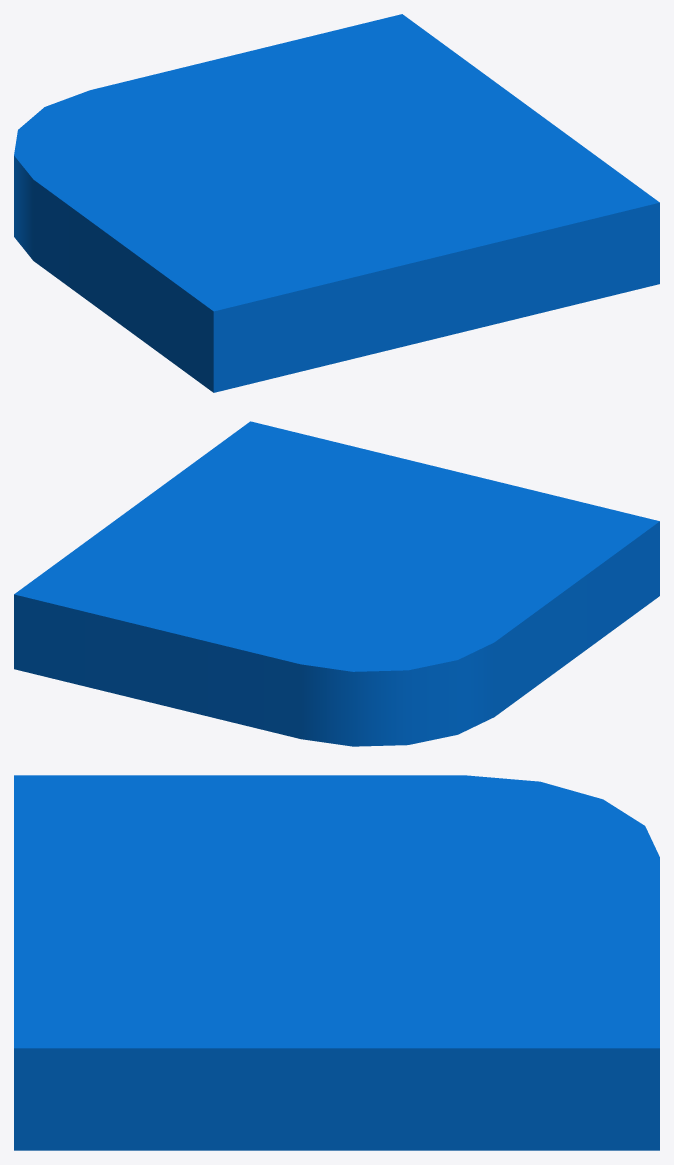
File: ConcreteCornerPiece.fbx
3 renders of one model, top to bottom at view 1: azimuth 30°, elevation 25°; view 2: azimuth 150°, elevation 25°; view 3: azimuth 270°, elevation 25°, orthographic. The views are drawn at different scales.
Parts seen in each view (by area): view 1: pCube87; view 2: pCube87; view 3: pCube87.
Part boxes in pixels (x1=…): pCube87: x1=14, y1=14, x2=659, y2=392; pCube87: x1=14, y1=421, x2=659, y2=746; pCube87: x1=14, y1=775, x2=659, y2=1150.
Size of the model in its own units: 2.46 by 0.4293 by 2.46.
